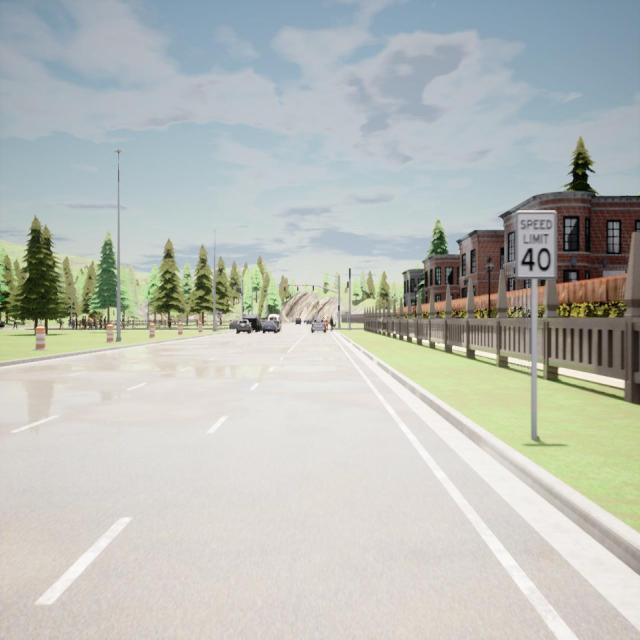Pedestrian: (330, 314, 335, 332), (92, 314, 98, 328), (11, 318, 18, 330), (98, 314, 103, 329), (58, 318, 63, 331), (82, 314, 86, 330), (325, 316, 329, 331), (121, 315, 125, 330), (88, 315, 92, 330), (71, 315, 75, 329), (168, 317, 172, 329), (74, 317, 78, 329), (104, 314, 106, 330)
Traffic_Signs: (515, 210, 557, 278), (217, 312, 221, 318)
Vehicle: (243, 314, 260, 333), (311, 318, 327, 333), (236, 319, 252, 334), (262, 320, 278, 334), (268, 314, 282, 329), (229, 319, 236, 329), (296, 317, 302, 325), (306, 318, 312, 325)
traffic_light: (284, 284, 286, 292), (347, 282, 349, 288), (338, 305, 340, 311), (312, 285, 314, 291), (242, 307, 244, 312), (236, 287, 238, 291), (297, 285, 298, 291), (238, 288, 239, 291)
